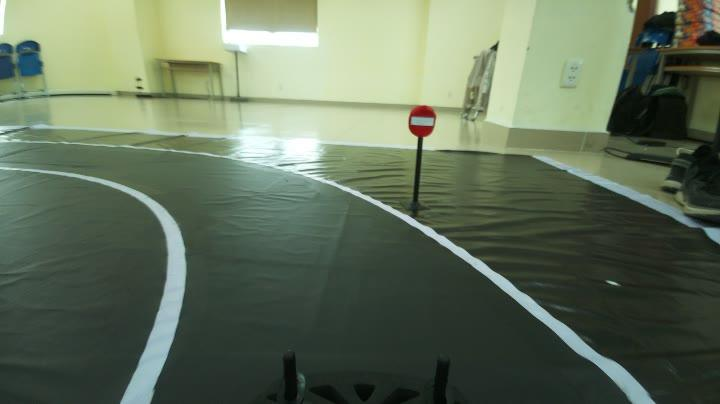no_entry: (398, 99, 448, 139)
